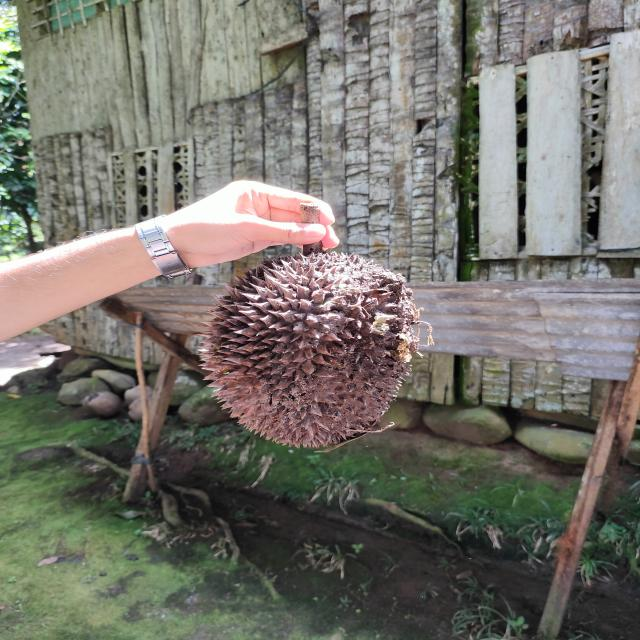defective: (196, 252, 426, 450)
